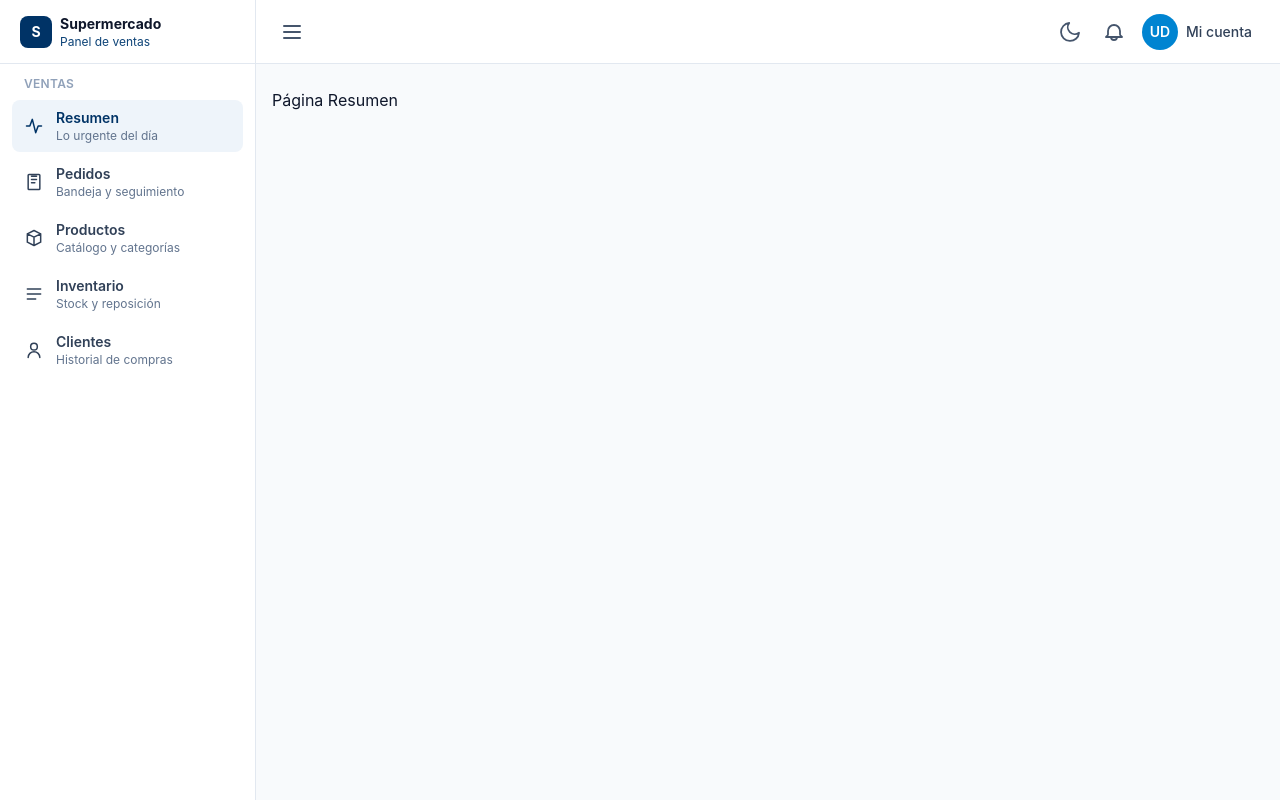
Scenario: PanelLayout: menú según el rol › navegar desde el menú cambia la página
Click the link "Pedidos Bandeja y seguimiento".
click(104, 182)  # box [24,165,184,199]
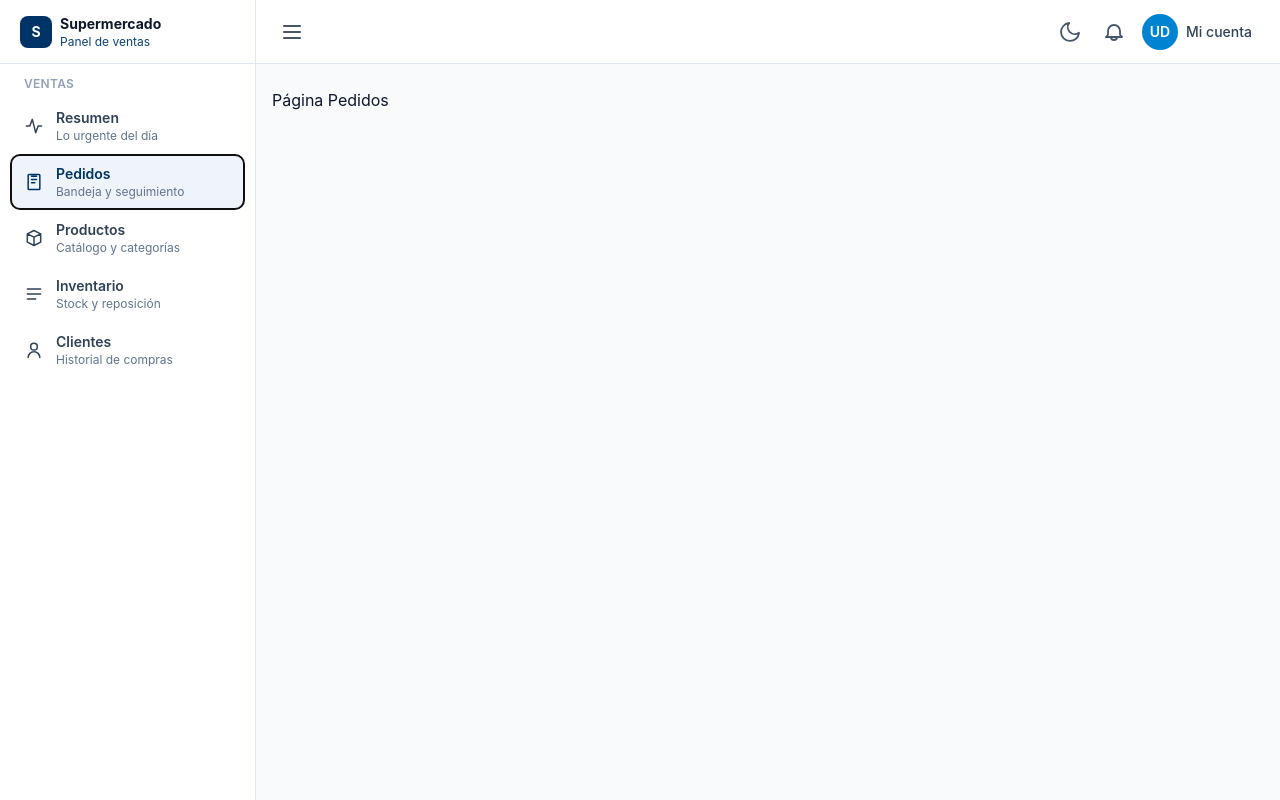
Check: the text "Página Pedidos" is shown, box [272,90,389,110]
